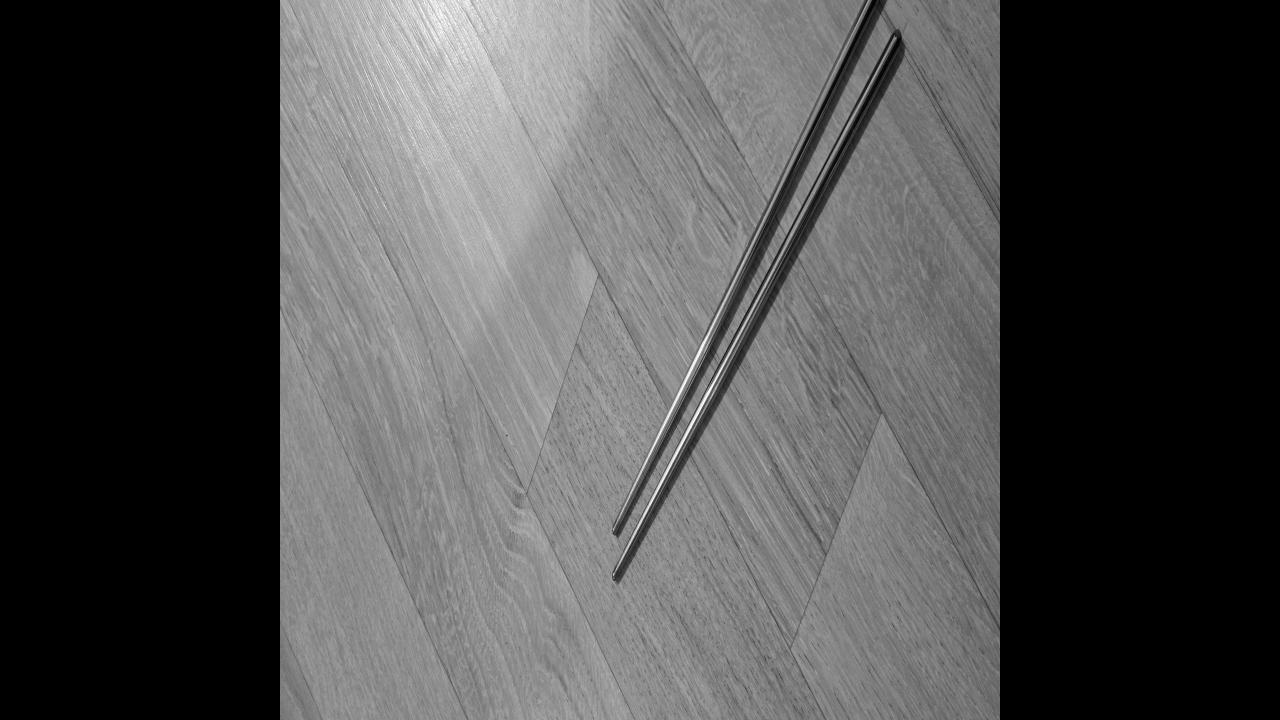chopstick: (604, 0, 907, 590)
